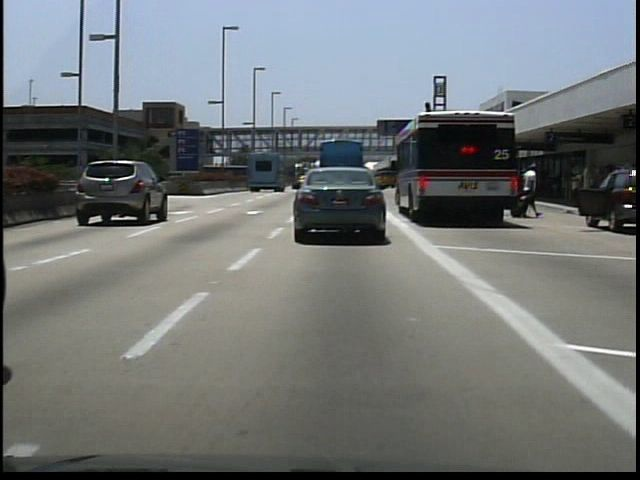person: (520, 159, 542, 221)
